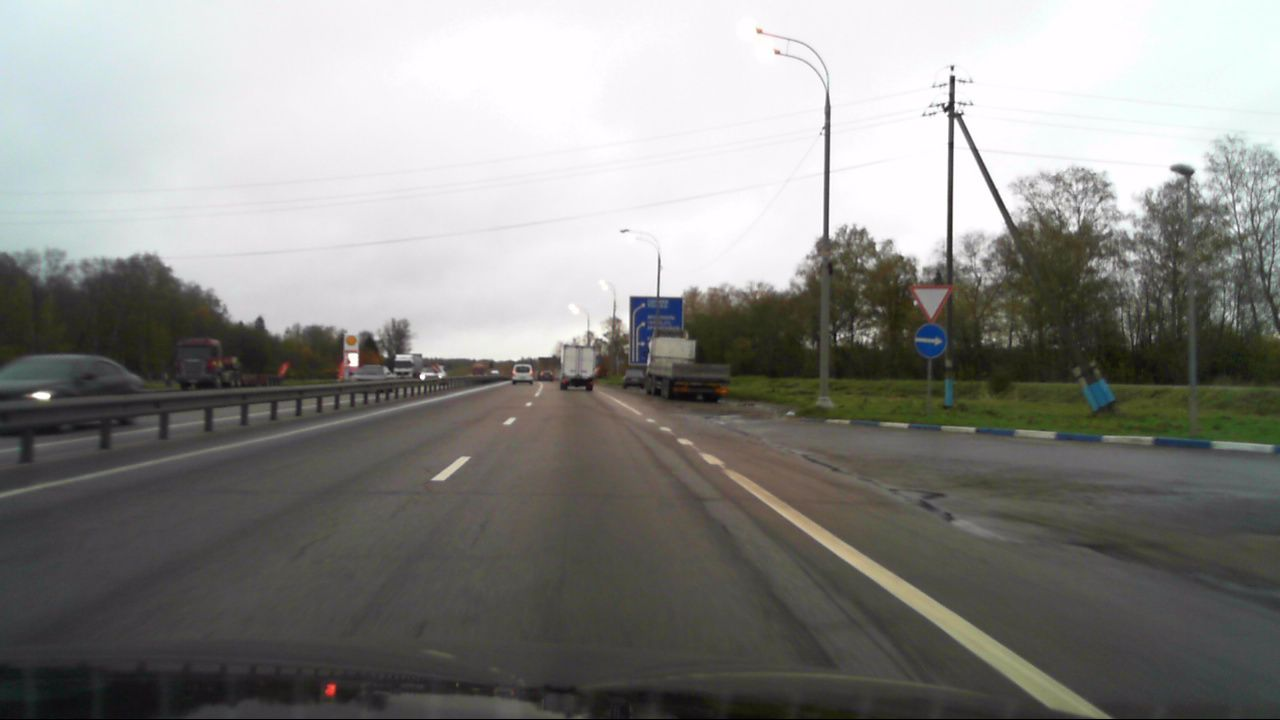Turn Right: (914, 324, 948, 359)
